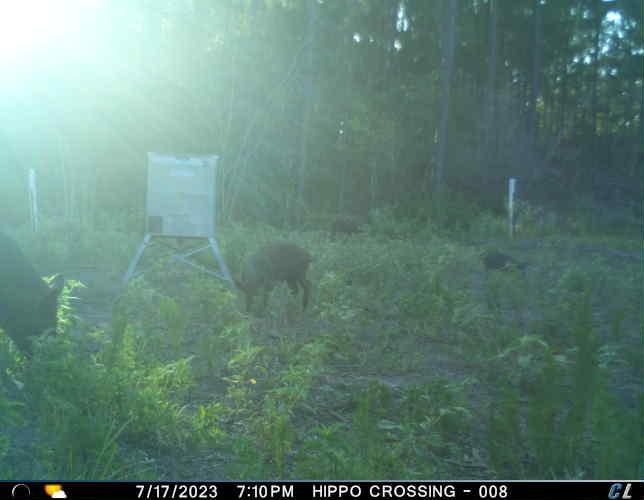Hog: (0, 228, 71, 356), (228, 239, 315, 318)
